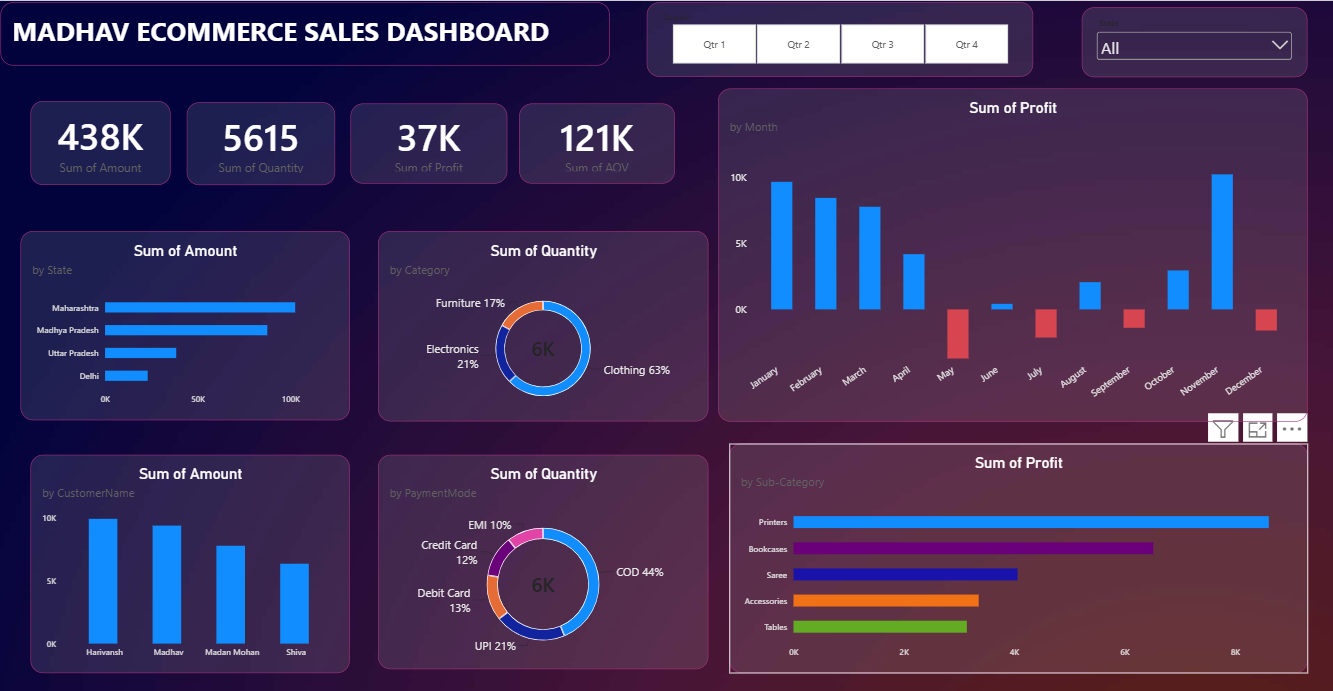

The page's visual inventory and layout, read from the dashboard file:
{"tool":"powerbi","page":{"name":"Page 1","canvas":[1920,1080],"ordinal":0},"visuals":[{"type":"textbox","box":[10,38,870,90],"z":0},{"type":"barChart","fields":{"Category":["Details.Sub-Category"],"Y":["Sum(Details.Profit)"]},"box":[1052,668,826,328],"z":2000},{"type":"donutChart","fields":{"Category":["Details.Category"],"Y":["Sum(Details.Quantity)"]},"box":[550,364,472,272],"z":3000},{"type":"donutChart","fields":{"Category":["Details.PaymentMode","Details.Category"],"Y":["Sum(Details.Quantity)"]},"box":[550,684,472,306],"z":4000},{"type":"card","fields":{"Values":["Sum(Details.Amount)"]},"box":[54,178,200,120],"z":4001},{"type":"card","fields":{"Values":["Sum(Details.Quantity)"]},"box":[276,180,212,118],"z":4002},{"type":"card","fields":{"Values":["Sum(Details.Profit)"]},"box":[510,182,224,114],"z":4003},{"type":"card","fields":{"Values":["Sum(Details.AOV)"]},"box":[752,182,222,114],"z":4004},{"type":"barChart","fields":{"Category":["Orders.State"],"Y":["Sum(Details.Amount)"]},"box":[40,364,470,270],"z":4005},{"type":"columnChart","fields":{"Category":["Orders.CustomerName"],"Y":["Sum(Details.Amount)"]},"box":[54,684,456,312],"z":4006},{"type":"columnChart","fields":{"Category":["Orders.Order Date.Variation.Date Hierarchy.Month"],"Y":["Sum(Details.Profit)"]},"box":[1036,160,842,476],"z":4009},{"type":"slicer","fields":{"Values":["Orders.Order Date.Variation.Date Hierarchy.Quarter"]},"box":[934,38,552,106],"z":4010},{"type":"slicer","fields":{"Values":["Orders.State"]},"box":[1556,44,322,100],"z":4011}]}

Visuals, with their boxes on the page's 1920x1080 design canvas (x1, y1, x2, y2). These are canvas units, not pixel positions in the 1333x691 screenshot, which may show the page scaled, cropped or inside an application window:
textbox: locate(10, 38, 880, 128)
barChart - Details.Sub-Category x Sum(Details.Profit): locate(1052, 668, 1878, 996)
donutChart - Details.Category x Sum(Details.Quantity): locate(550, 364, 1022, 636)
donutChart - Details.PaymentMode x Details.Category: locate(550, 684, 1022, 990)
card - Sum(Details.Amount): locate(54, 178, 254, 298)
card - Sum(Details.Quantity): locate(276, 180, 488, 298)
card - Sum(Details.Profit): locate(510, 182, 734, 296)
card - Sum(Details.AOV): locate(752, 182, 974, 296)
barChart - Orders.State x Sum(Details.Amount): locate(40, 364, 510, 634)
columnChart - Orders.CustomerName x Sum(Details.Amount): locate(54, 684, 510, 996)
columnChart - Orders.Order Date.Variation.Date Hierarchy.Month x Sum(Details.Profit): locate(1036, 160, 1878, 636)
slicer - Orders.Order Date.Variation.Date Hierarchy.Quarter: locate(934, 38, 1486, 144)
slicer - Orders.State: locate(1556, 44, 1878, 144)
